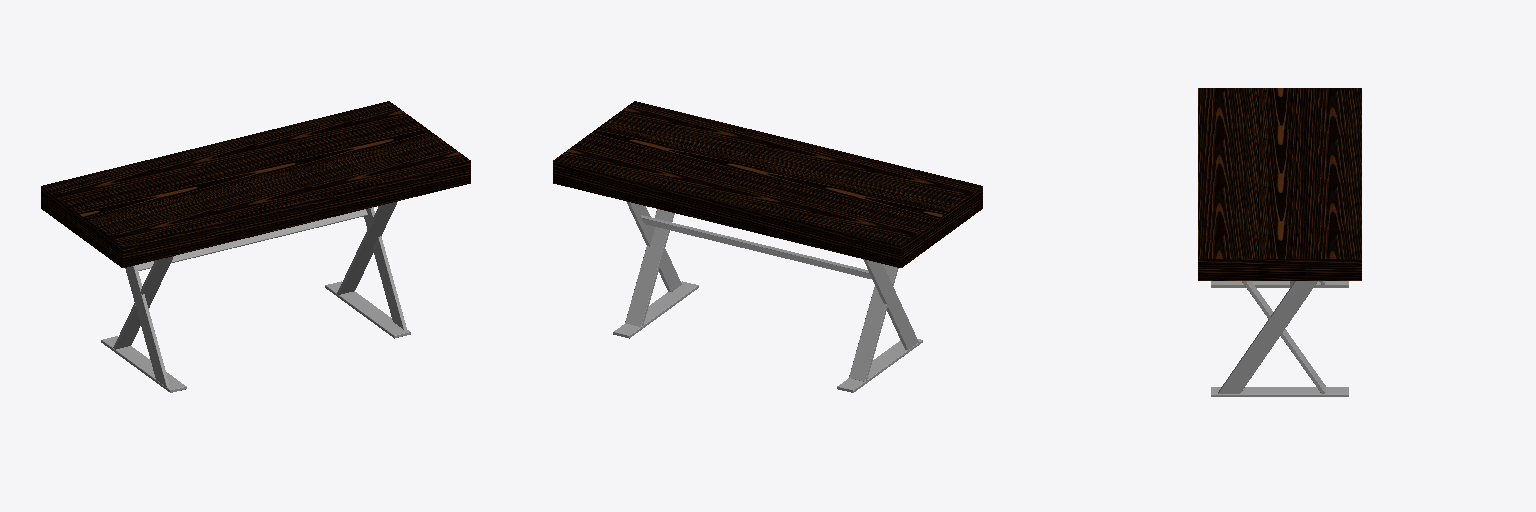
3 renders of one model, left to right at view 1: azimuth 30°, elevation 25°; view 2: azimuth 150°, elevation 25°; view 3: azimuth 270°, elevation 25°, orthographic.
Parts seen in each view (by area): view 1: Mesh7 MD157_MK_PSS_Component_03_1 Barrow_Desk_in_Cathedral_Ebony, Mesh9 MD157_MK_PSS_Component_02_1 Barrow_Desk_in_Cathedral_Ebony, Mesh8 MD157_MK_PSS_Component_08_1 Barrow_Desk_in_Cathedral_Ebony, Mesh12 MD157_MK_PSS_Component_05_2 Barrow_Desk_in_Cathedral_Ebon, Mesh11 MD157_MK_PSS_Component_02_2 Barrow_Desk_in_Cathedral_Ebon, Mesh5 MD157_MK_PSS_Component_05_1 Barrow_Desk_in_Cathedral_Ebony, Mesh6 MD157_MK_PSS_Component_09_1 Barrow_Desk_in_Cathedral_Ebony, Mesh10 MD157_MK_PSS_Component_09_2 Barrow_Desk_in_Cathedral_Ebon; view 2: Mesh7 MD157_MK_PSS_Component_03_1 Barrow_Desk_in_Cathedral_Ebony, Mesh9 MD157_MK_PSS_Component_02_1 Barrow_Desk_in_Cathedral_Ebony, Mesh8 MD157_MK_PSS_Component_08_1 Barrow_Desk_in_Cathedral_Ebony, Mesh11 MD157_MK_PSS_Component_02_2 Barrow_Desk_in_Cathedral_Ebon, Mesh12 MD157_MK_PSS_Component_05_2 Barrow_Desk_in_Cathedral_Ebon, Mesh6 MD157_MK_PSS_Component_09_1 Barrow_Desk_in_Cathedral_Ebony, Mesh5 MD157_MK_PSS_Component_05_1 Barrow_Desk_in_Cathedral_Ebony, Mesh10 MD157_MK_PSS_Component_09_2 Barrow_Desk_in_Cathedral_Ebon; view 3: Mesh7 MD157_MK_PSS_Component_03_1 Barrow_Desk_in_Cathedral_Ebony, Mesh5 MD157_MK_PSS_Component_05_1 Barrow_Desk_in_Cathedral_Ebony, Mesh6 MD157_MK_PSS_Component_09_1 Barrow_Desk_in_Cathedral_Ebony, Mesh9 MD157_MK_PSS_Component_02_1 Barrow_Desk_in_Cathedral_Ebony, Mesh10 MD157_MK_PSS_Component_09_2 Barrow_Desk_in_Cathedral_Ebon.
Boxes of the visible parts, box(x1,y1,x2,y2) form: Mesh7 MD157_MK_PSS_Component_03_1 Barrow_Desk_in_Cathedral_Ebony: box(41, 101, 470, 267); Mesh9 MD157_MK_PSS_Component_02_1 Barrow_Desk_in_Cathedral_Ebony: box(337, 201, 397, 294); Mesh8 MD157_MK_PSS_Component_08_1 Barrow_Desk_in_Cathedral_Ebony: box(137, 209, 367, 270); Mesh12 MD157_MK_PSS_Component_05_2 Barrow_Desk_in_Cathedral_Ebon: box(125, 265, 169, 387); Mesh11 MD157_MK_PSS_Component_02_2 Barrow_Desk_in_Cathedral_Ebon: box(113, 256, 173, 349); Mesh5 MD157_MK_PSS_Component_05_1 Barrow_Desk_in_Cathedral_Ebony: box(364, 207, 406, 329); Mesh6 MD157_MK_PSS_Component_09_1 Barrow_Desk_in_Cathedral_Ebony: box(325, 281, 410, 338); Mesh10 MD157_MK_PSS_Component_09_2 Barrow_Desk_in_Cathedral_Ebon: box(101, 336, 186, 392); Mesh7 MD157_MK_PSS_Component_03_1 Barrow_Desk_in_Cathedral_Ebony: box(553, 101, 982, 267); Mesh9 MD157_MK_PSS_Component_02_1 Barrow_Desk_in_Cathedral_Ebony: box(625, 209, 674, 326); Mesh8 MD157_MK_PSS_Component_08_1 Barrow_Desk_in_Cathedral_Ebony: box(640, 215, 872, 279); Mesh11 MD157_MK_PSS_Component_02_2 Barrow_Desk_in_Cathedral_Ebon: box(849, 264, 898, 381); Mesh12 MD157_MK_PSS_Component_05_2 Barrow_Desk_in_Cathedral_Ebon: box(863, 259, 918, 349); Mesh6 MD157_MK_PSS_Component_09_1 Barrow_Desk_in_Cathedral_Ebony: box(613, 281, 698, 338); Mesh5 MD157_MK_PSS_Component_05_1 Barrow_Desk_in_Cathedral_Ebony: box(626, 201, 681, 291); Mesh10 MD157_MK_PSS_Component_09_2 Barrow_Desk_in_Cathedral_Ebon: box(837, 339, 922, 392); Mesh7 MD157_MK_PSS_Component_03_1 Barrow_Desk_in_Cathedral_Ebony: box(1198, 88, 1361, 280); Mesh5 MD157_MK_PSS_Component_05_1 Barrow_Desk_in_Cathedral_Ebony: box(1218, 281, 1317, 393); Mesh6 MD157_MK_PSS_Component_09_1 Barrow_Desk_in_Cathedral_Ebony: box(1211, 387, 1348, 396); Mesh9 MD157_MK_PSS_Component_02_1 Barrow_Desk_in_Cathedral_Ebony: box(1242, 281, 1325, 393); Mesh10 MD157_MK_PSS_Component_09_2 Barrow_Desk_in_Cathedral_Ebon: box(1211, 281, 1348, 287).
Bounding box in the file's own units: 64 × 29 × 26.
2 materials, 1 textured.